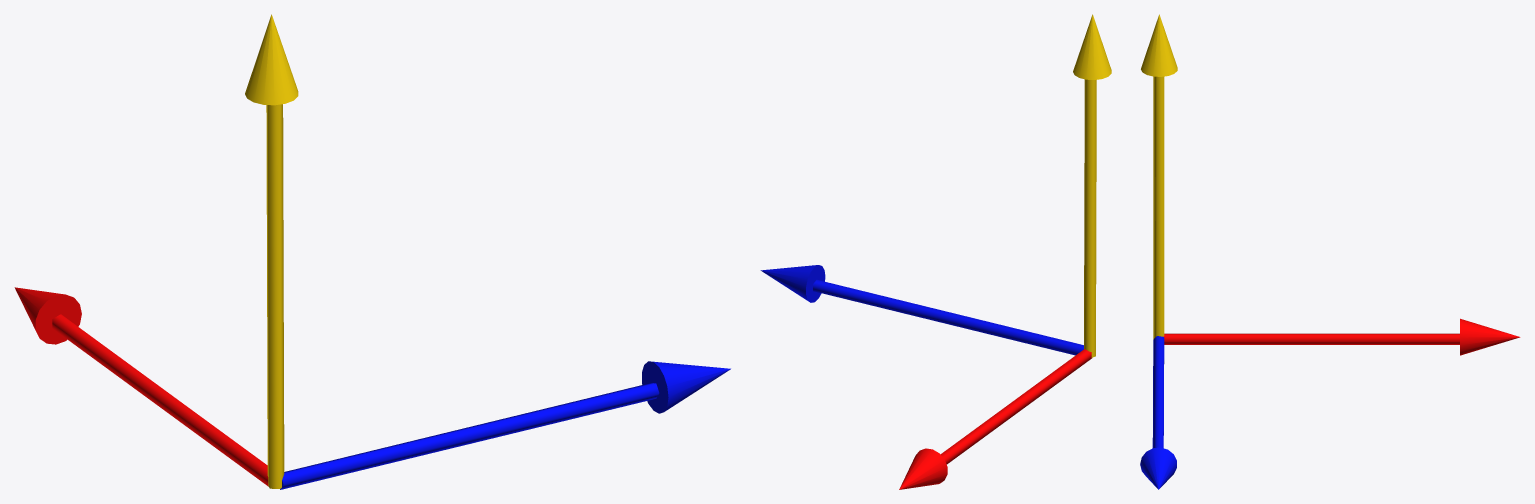
The model's file is axis.fbx.
3 renders of one model, left to right at view 1: azimuth 30°, elevation 25°; view 2: azimuth 150°, elevation 25°; view 3: azimuth 270°, elevation 25°, orthographic. The views are drawn at different scales.
Parts seen in each view (by area): view 1: Cone003, Cone002, Cone001; view 2: Cone003, Cone002, Cone001; view 3: Cone001, Cone003, Cone002.
Boxes of the visible parts, x1,y1,x2,y2 form: Cone003: (245, 14, 298, 488); Cone002: (280, 361, 730, 489); Cone001: (14, 287, 268, 486); Cone003: (1073, 14, 1111, 357); Cone002: (760, 265, 1083, 355); Cone001: (899, 349, 1091, 489); Cone001: (1163, 318, 1520, 355); Cone003: (1141, 14, 1177, 339); Cone002: (1140, 336, 1176, 489).
Bounding box in the file's own units: 66.7 × 64.85 × 66.15.
